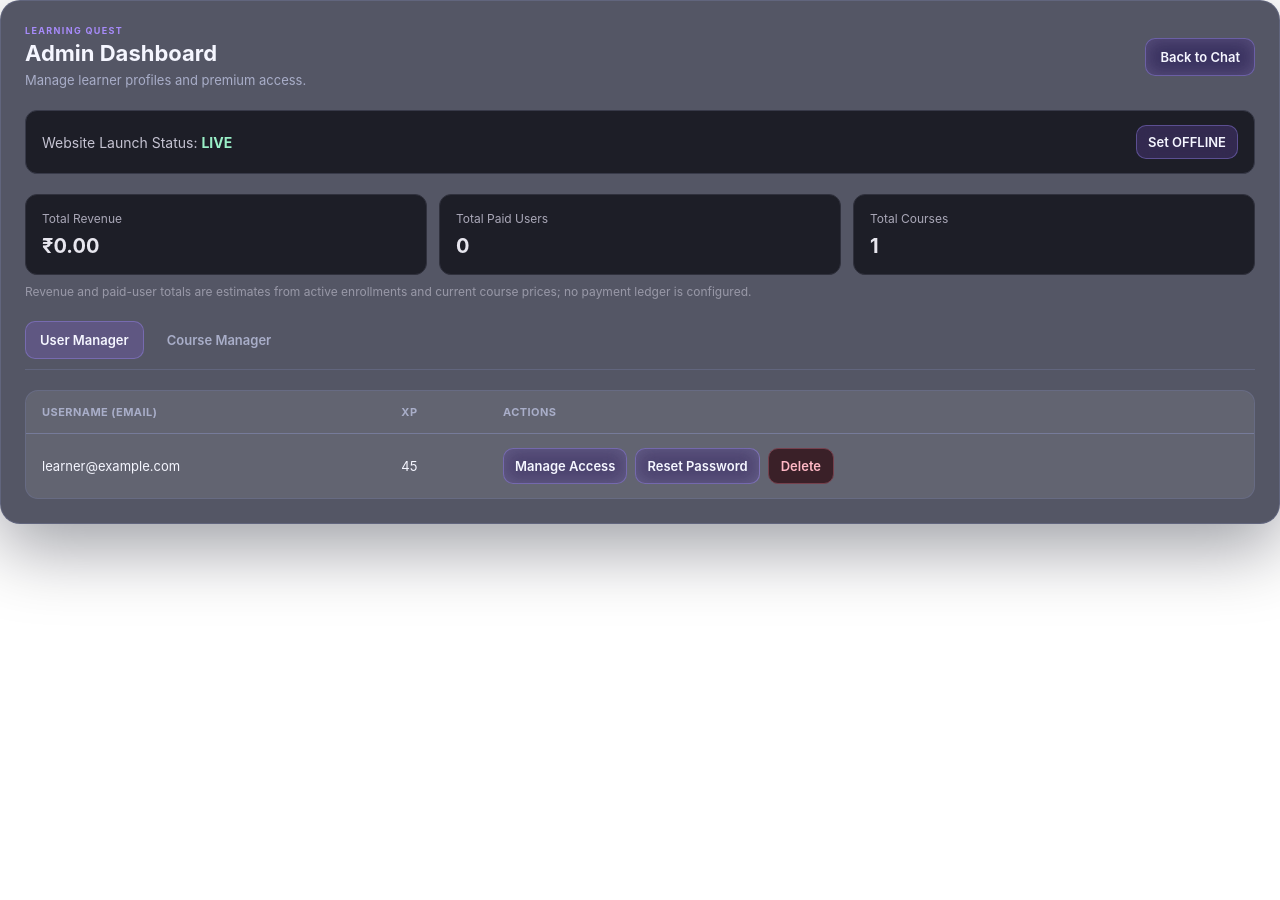
Test: updates an existing enrollment to grant access
Click the button "Manage Access" at (565, 466), box [503, 448, 627, 484]
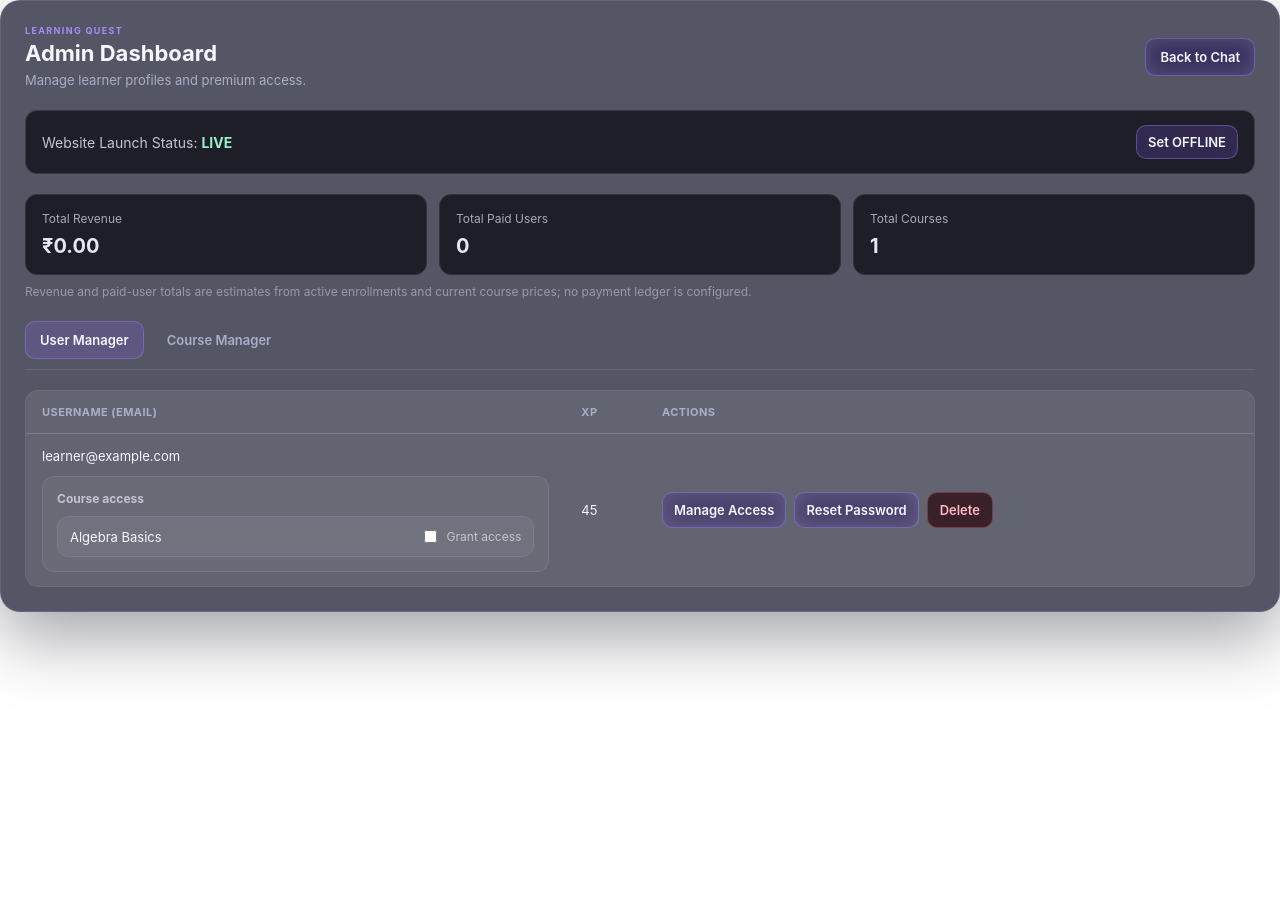
Click the checkbox named "Grant access to Algebra Basics for learner@example.com" at (430, 536), box [424, 530, 437, 543]
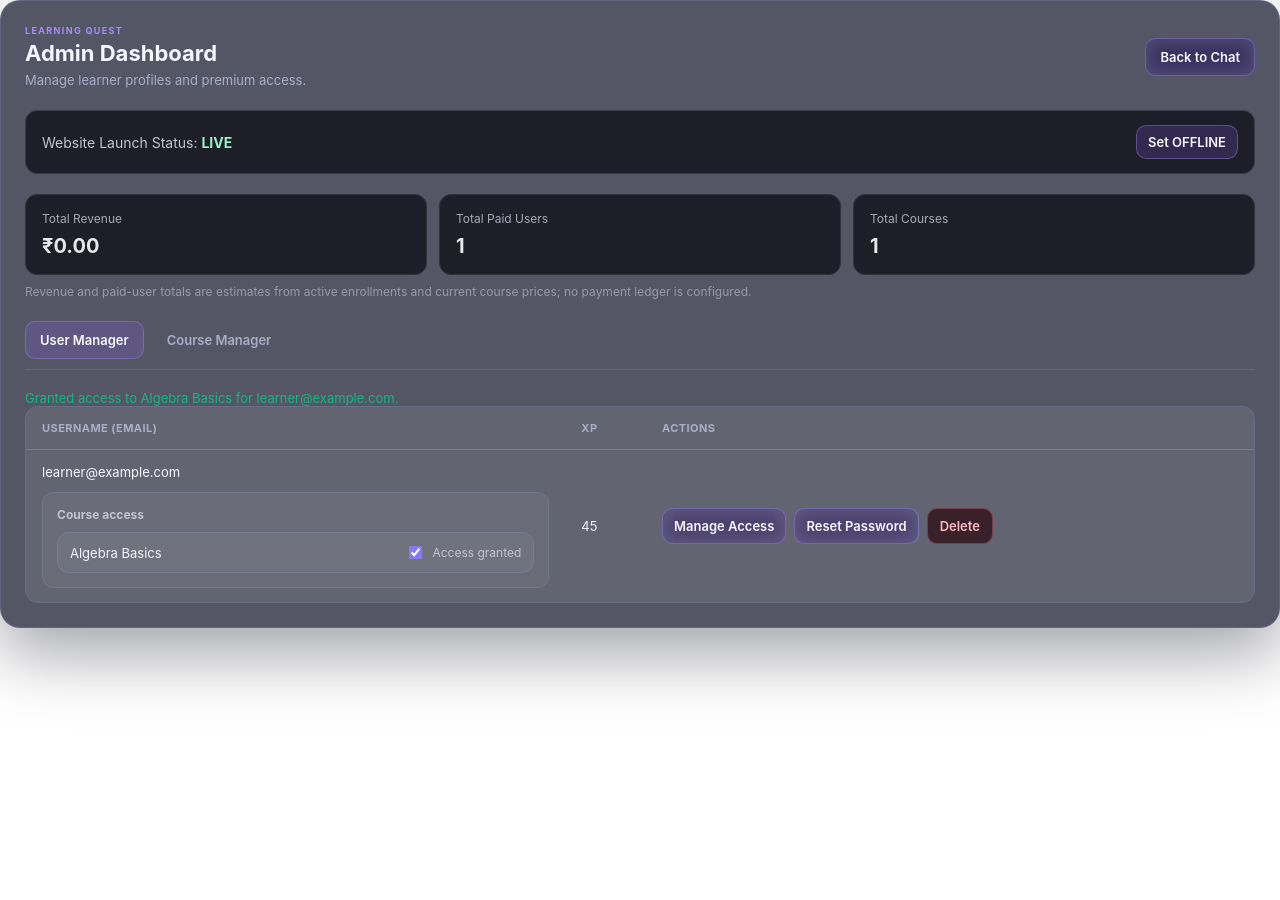
Result: the checkbox named "Revoke access to Algebra Basics for learner@example.com" is checked at [409, 546, 422, 559]
